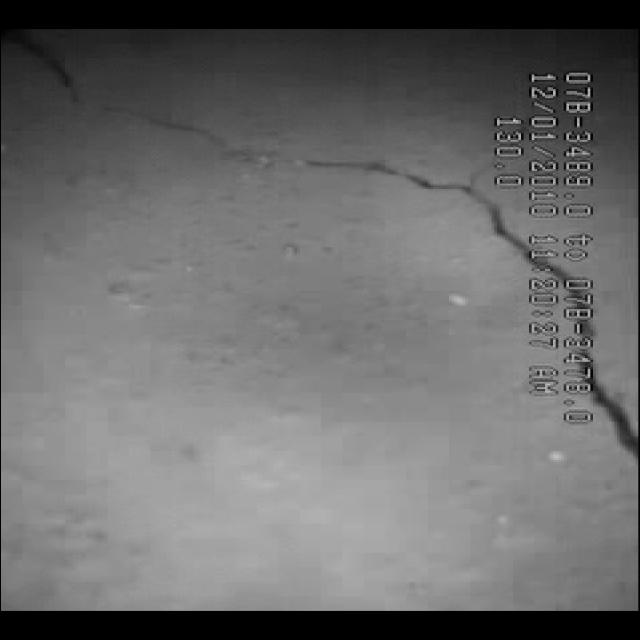Crack: (324, 148, 634, 420)
